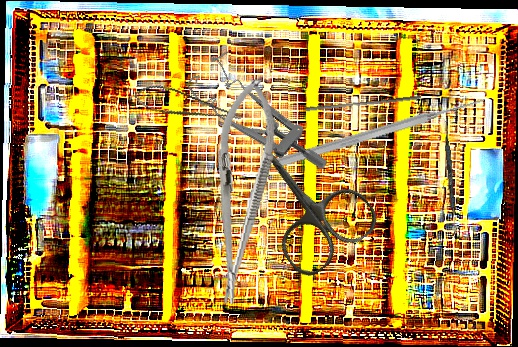Iris Scissors: (225, 117, 384, 283)
Micro Scissor: (131, 76, 244, 140)
Needle Holder: (199, 75, 283, 308)
Pusher: (273, 93, 487, 171), (306, 91, 421, 115)
Spatula Surgical: (441, 120, 460, 238)
Speculum: (181, 39, 332, 205)
